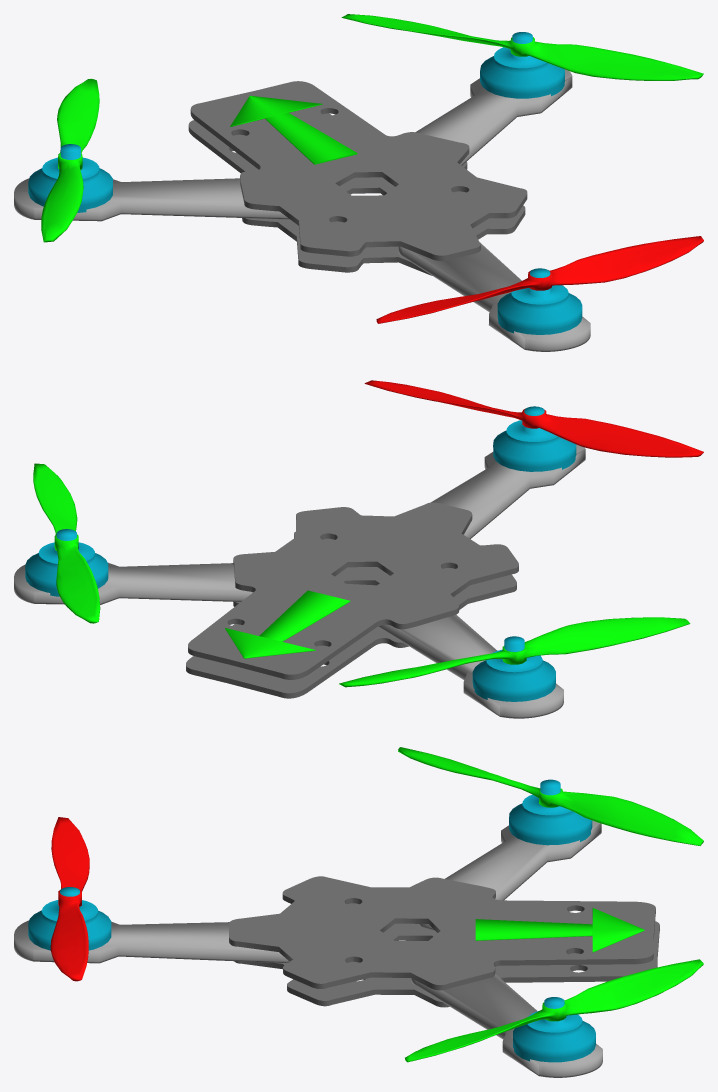
The model's file is tricopter.gltf.
3 renders of one model, top to bottom at view 1: azimuth 30°, elevation 25°; view 2: azimuth 150°, elevation 25°; view 3: azimuth 270°, elevation 25°, orthographic.
Size of the model in its own units: 8.51 by 0.7556 by 7.81.
